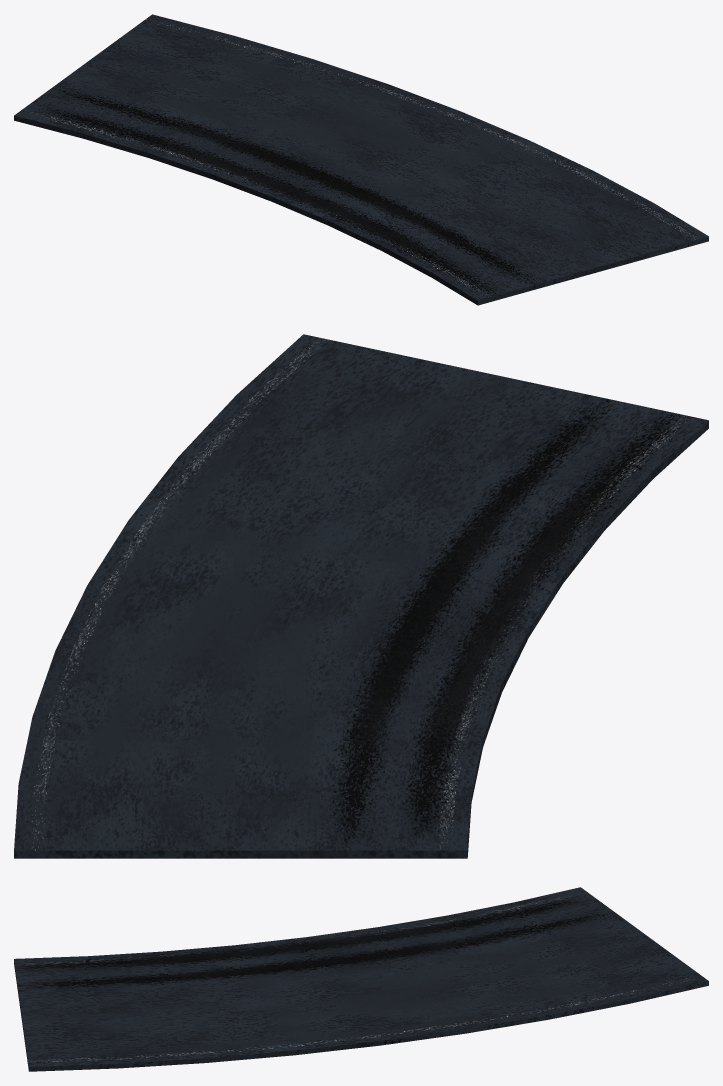
Rendered from long_left_turn.fbx.
3 renders of one model, top to bottom at view 1: azimuth 30°, elevation 25°; view 2: azimuth 150°, elevation 25°; view 3: azimuth 270°, elevation 25°, orthographic. The views are drawn at different scales.
Parts seen in each view (by area): view 1: LongLeft; view 2: LongLeft; view 3: LongLeft.
Part boxes in pixels (x1,y1,x2,y2): LongLeft: [14, 14, 708, 305]; LongLeft: [14, 334, 708, 858]; LongLeft: [14, 887, 708, 1071].
Size of the model in its own units: 1325 by 16 by 2162.
